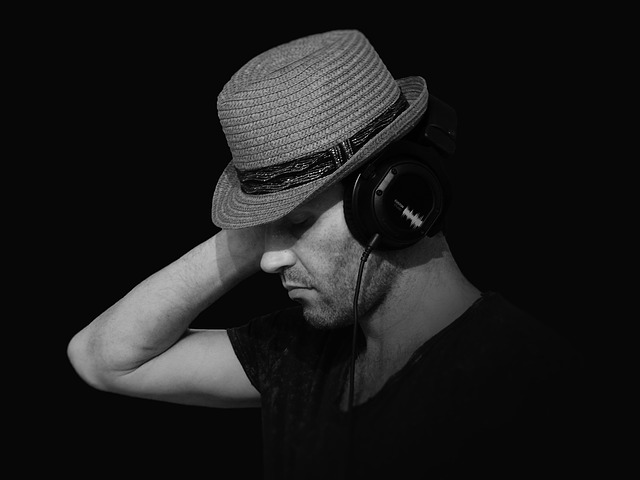headphones: (343, 93, 459, 254)
